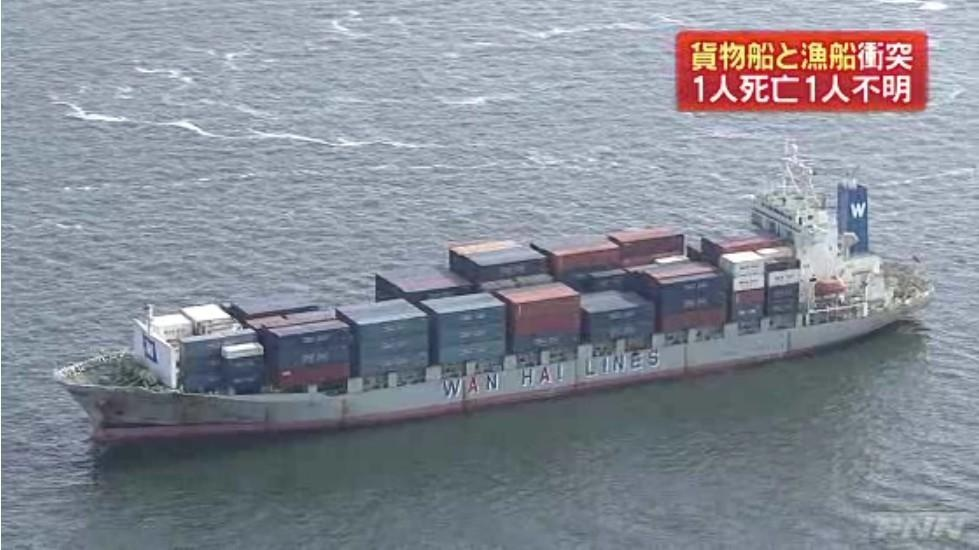Cargoship: (50, 138, 937, 448)
